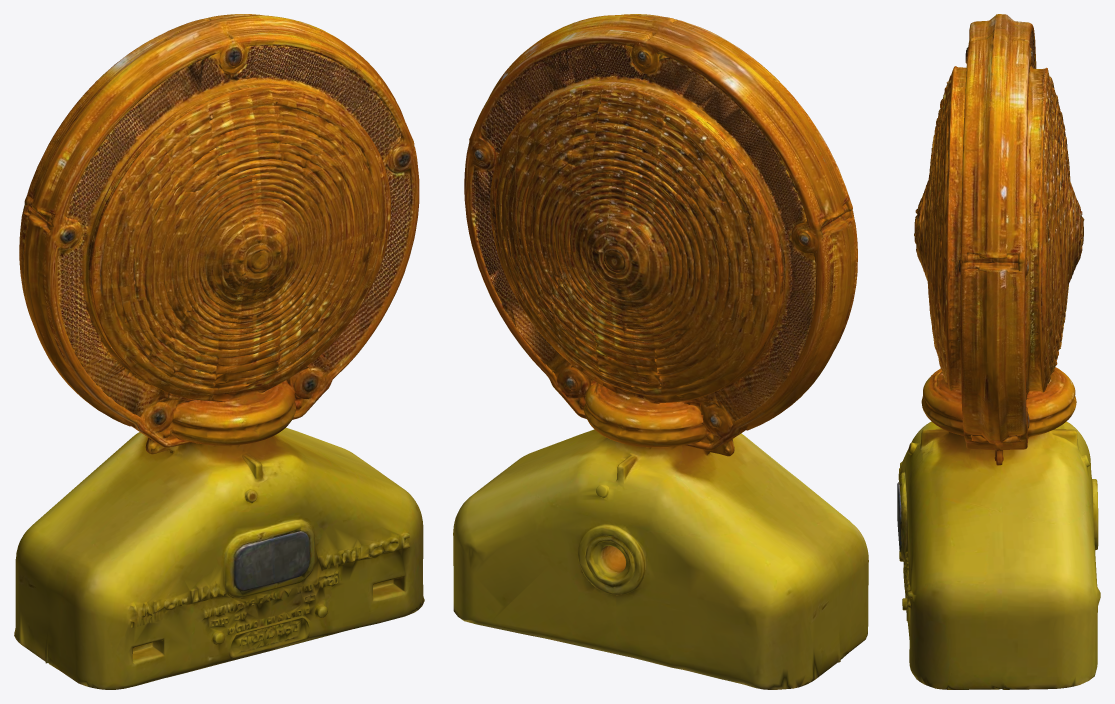
The model's file is beacon.glb.
3 views of the same model, side by side, from view 1: azimuth 30°, elevation 25°; view 2: azimuth 150°, elevation 25°; view 3: azimuth 270°, elevation 25° (orthographic). The views are drawn at different scales.
Parts seen in each view (by area): view 1: tripo_node_3b97defc-31dd-4f74-aa7e-03cdf031433e; view 2: tripo_node_3b97defc-31dd-4f74-aa7e-03cdf031433e; view 3: tripo_node_3b97defc-31dd-4f74-aa7e-03cdf031433e.
Boxes of the visible parts, x1,y1,x2,y2 form: tripo_node_3b97defc-31dd-4f74-aa7e-03cdf031433e: [14, 14, 424, 689]; tripo_node_3b97defc-31dd-4f74-aa7e-03cdf031433e: [453, 14, 868, 689]; tripo_node_3b97defc-31dd-4f74-aa7e-03cdf031433e: [897, 14, 1100, 689].
Bounding box in the file's own units: 0.6531 × 0.9807 × 0.3139.
Materials: 1 (1 with a texture image).
